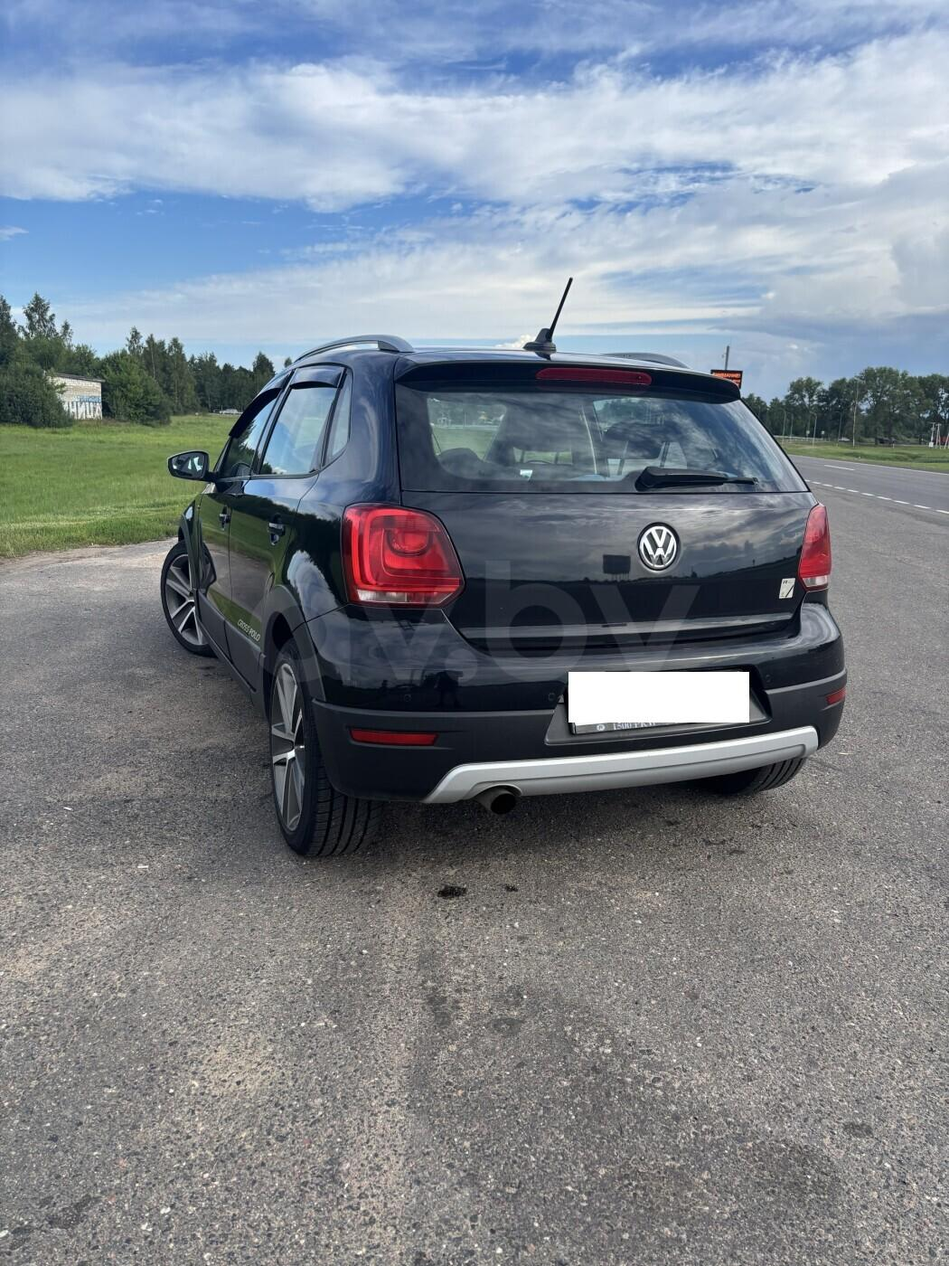Polo_2009-2015: (113, 328, 870, 879)
